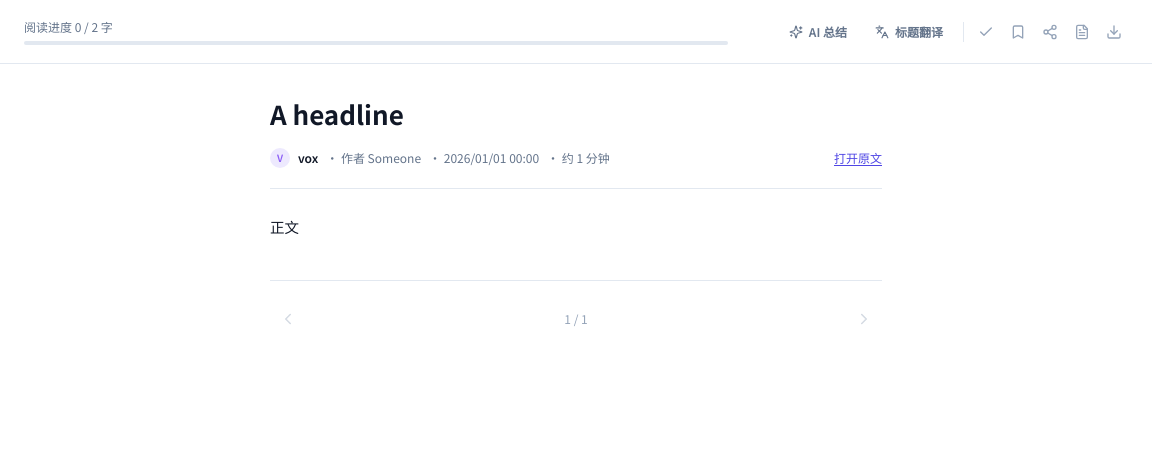
Test: ArticlePane 的 AI 按钮 › 流式：先出现部分文本，done 之后再补齐最终结果
This screenshot has width=1152, height=454.
Click the button "AI 总结". click: (818, 32)
box: [777,16,859,48]
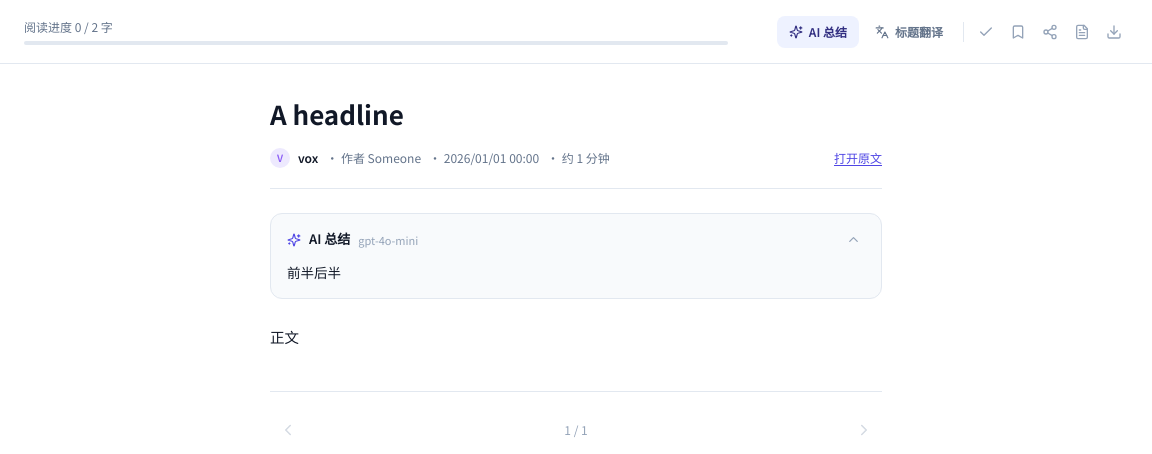
Expected: the text "前半后半" is shown, [287,262,341,282]
